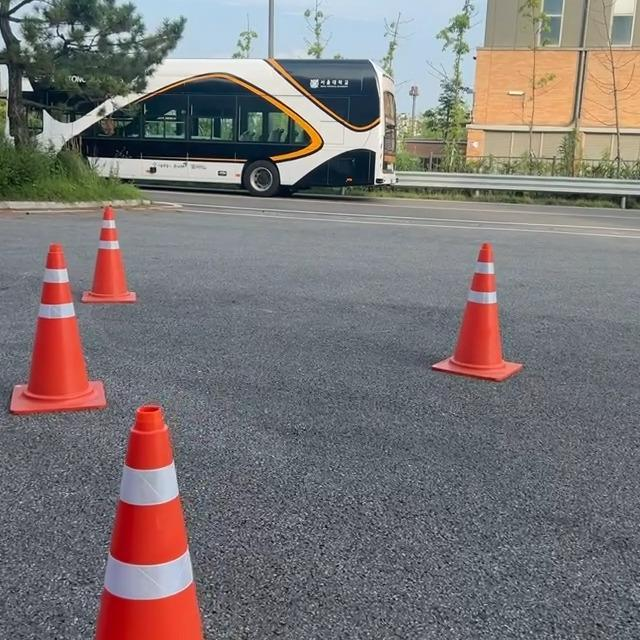fallen_object: (66, 373, 245, 640), (422, 187, 549, 395), (0, 244, 128, 423), (72, 183, 169, 308)
